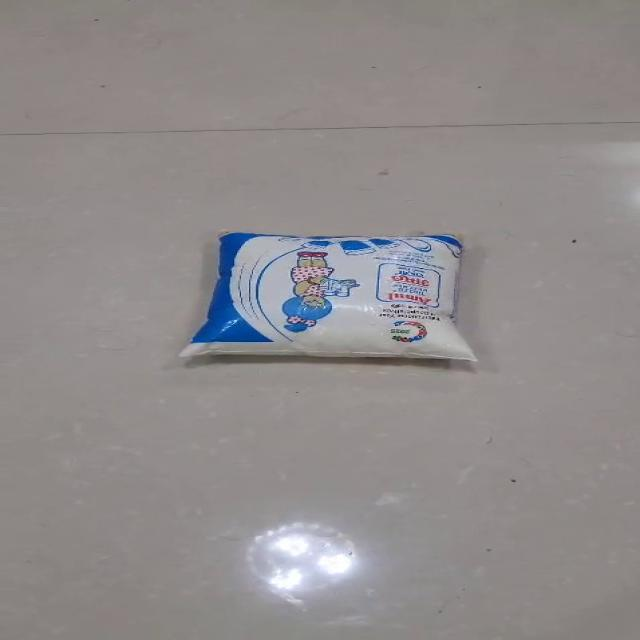plastic: (178, 228, 478, 362)
